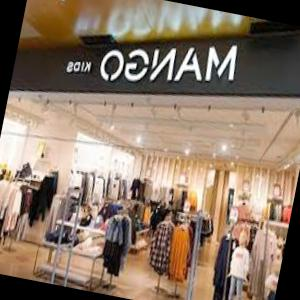mango: (91, 35, 241, 88)
